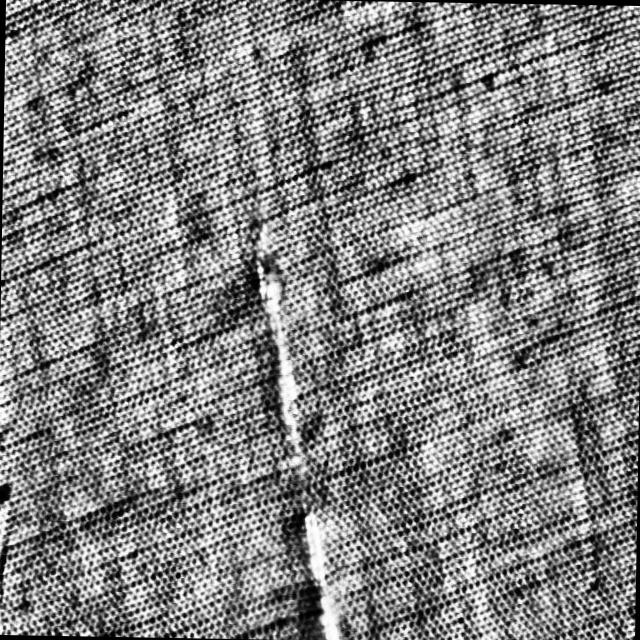gray stitch: (240, 238, 342, 640)
